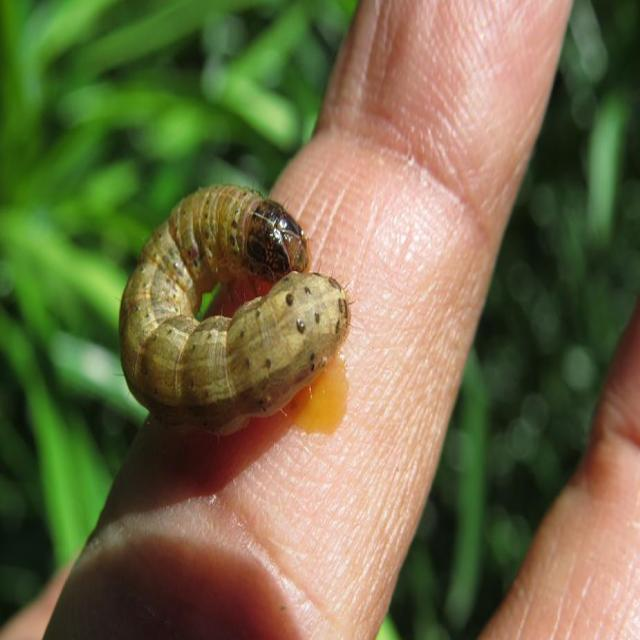Plaga: (110, 176, 360, 443)
